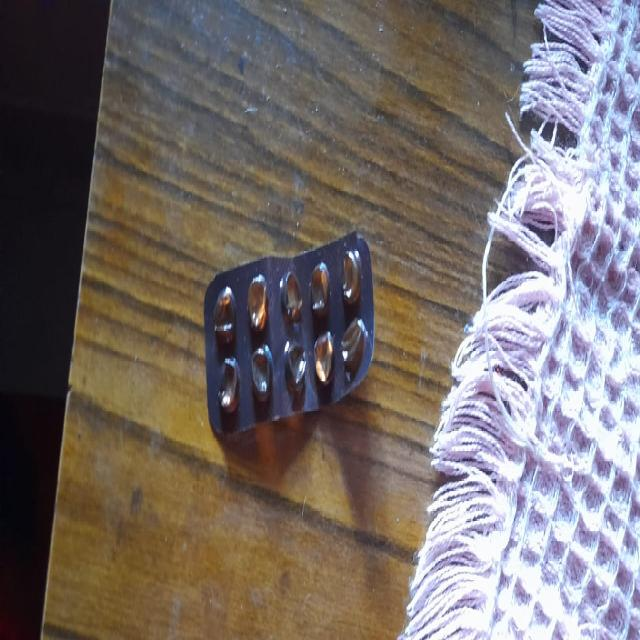Blister_Packs - Non Recyclable: (202, 227, 376, 442)
